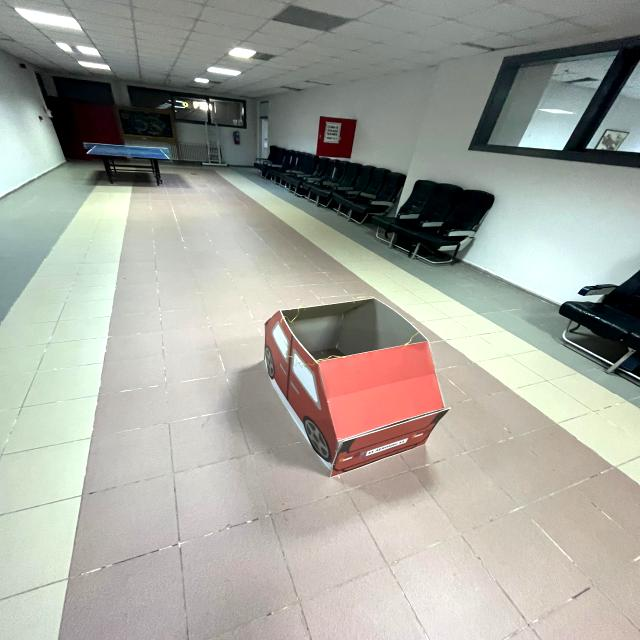red_car: (225, 281, 472, 490)
